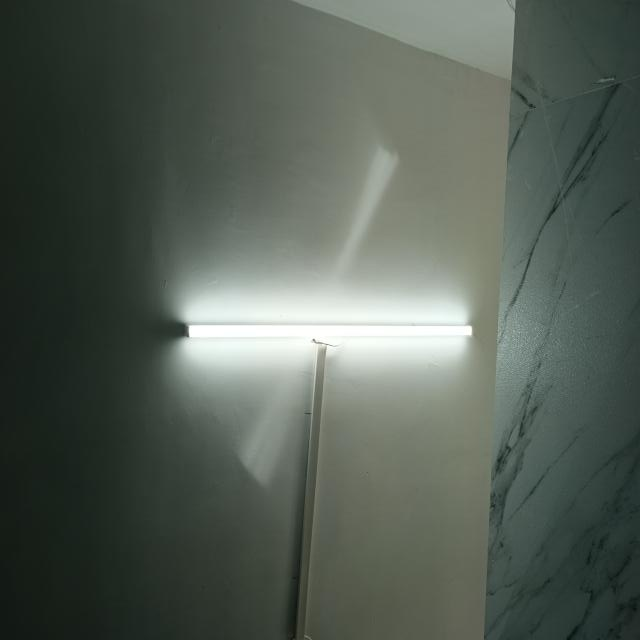fluorescent tube: (168, 303, 481, 371)
